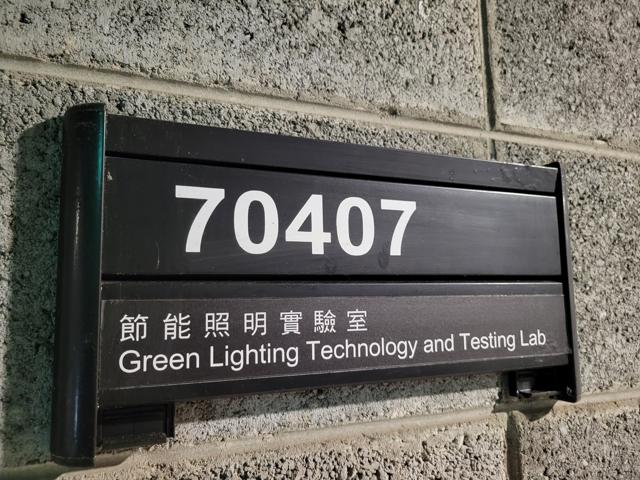doorplate: (45, 92, 590, 473)
